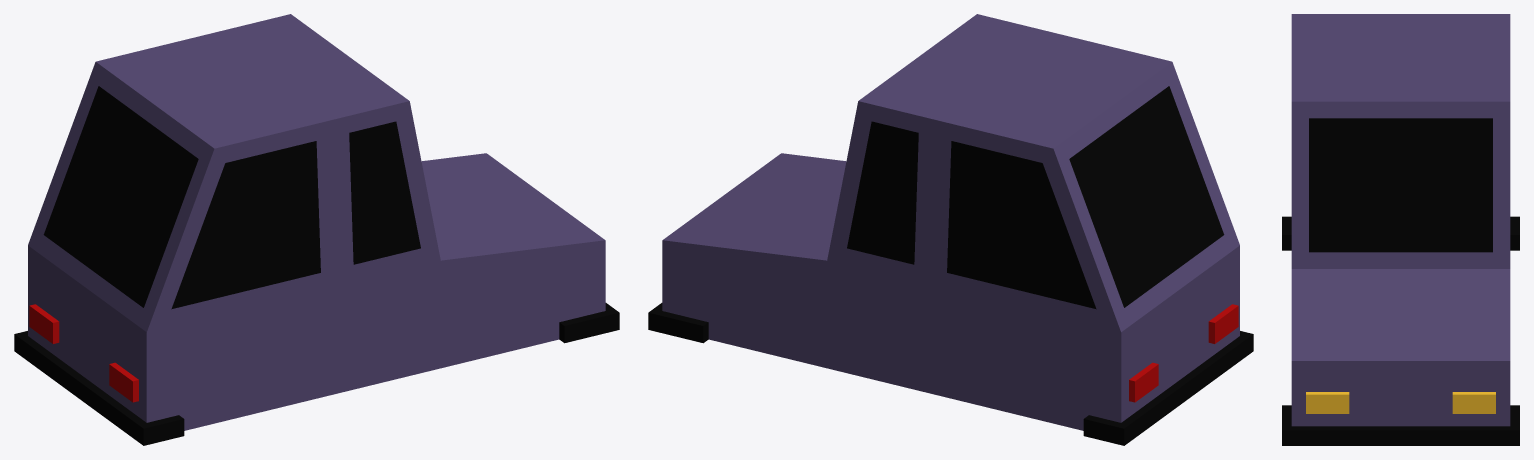
File: CityCar_Kombi_05.fbx
3 views of the same model, side by side, from view 1: azimuth 30°, elevation 25°; view 2: azimuth 150°, elevation 25°; view 3: azimuth 270°, elevation 25° (orthographic). The views are drawn at different scales.
Parts seen in each view (by area): view 1: CityCar_Kombi_05; view 2: CityCar_Kombi_05; view 3: CityCar_Kombi_05.
Part boxes in pixels (bbox=[...]): CityCar_Kombi_05: bbox=[14, 14, 619, 445]; CityCar_Kombi_05: bbox=[648, 14, 1253, 445]; CityCar_Kombi_05: bbox=[1282, 14, 1519, 445].
Bounding box in the file's own units: 0.4902 × 0.2706 × 0.2307.
